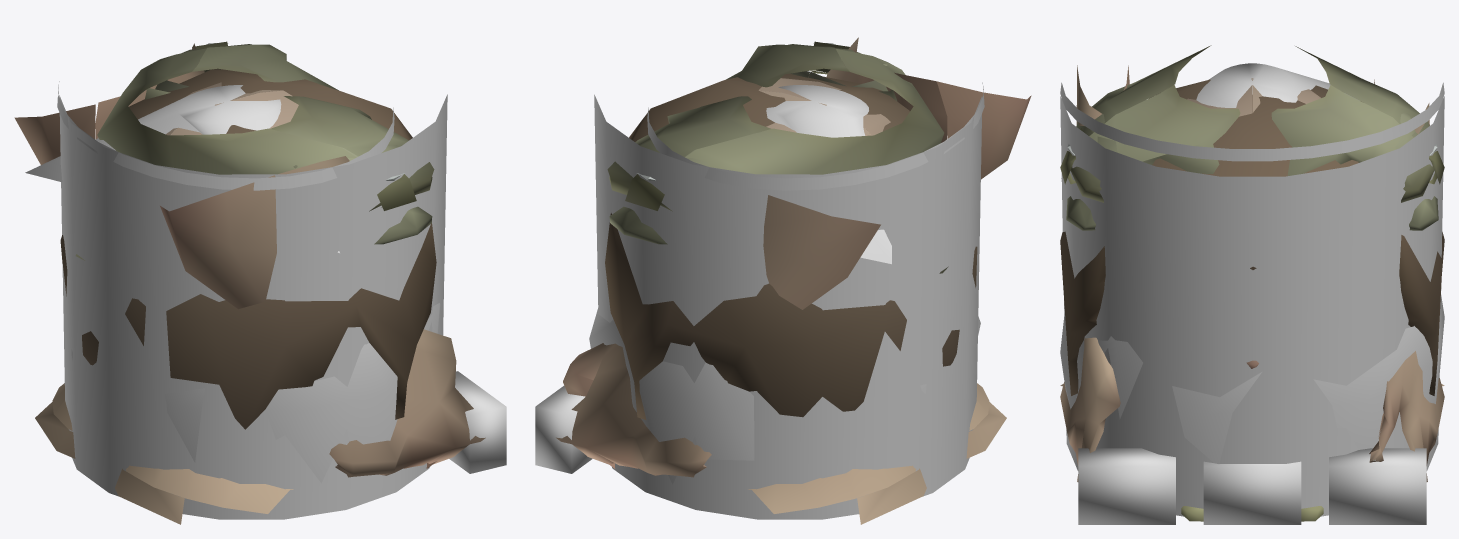
3 renders of one model, left to right at view 1: azimuth 30°, elevation 25°; view 2: azimuth 150°, elevation 25°; view 3: azimuth 270°, elevation 25°, orthographic.
Parts seen in each view (by area): view 1: team, tex:hair1, tex:hands, tex:peasantOlive, olive, tex:skin, oliveDark; view 2: team, tex:hair1, tex:hands, tex:peasantOlive, olive, tex:skin, oliveDark; view 3: team, oliveDark, tex:peasantOlive, olive, tex:hair1, tex:hands, tex:skin.
Boxes of the visible parts, x1,y1,x2,y2 form: team: [59, 94, 447, 519]; tex:hair1: [60, 69, 436, 429]; tex:hands: [14, 43, 485, 477]; tex:peasantOlive: [75, 41, 434, 260]; olive: [25, 85, 440, 483]; tex:skin: [35, 82, 298, 524]; oliveDark: [57, 81, 506, 473]; team: [594, 94, 982, 519]; tex:hair1: [605, 73, 977, 419]; tex:hands: [556, 37, 1031, 477]; tex:peasantOlive: [607, 41, 948, 273]; olive: [589, 85, 980, 484]; tex:skin: [748, 78, 1006, 524]; oliveDark: [535, 82, 984, 473]; team: [1060, 96, 1444, 516]; oliveDark: [1060, 82, 1444, 524]; tex:peasantOlive: [1060, 45, 1444, 521]; olive: [1060, 63, 1444, 463]; tex:hair1: [1060, 79, 1444, 395]; tex:hands: [1060, 65, 1444, 481]; tex:skin: [1060, 78, 1444, 386].
Size of the model in its own units: 65535 by 65535 by 65535.
